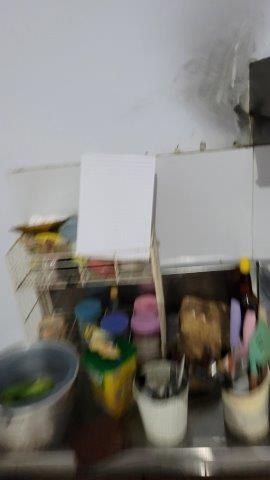kertas: (74, 155, 156, 259)
